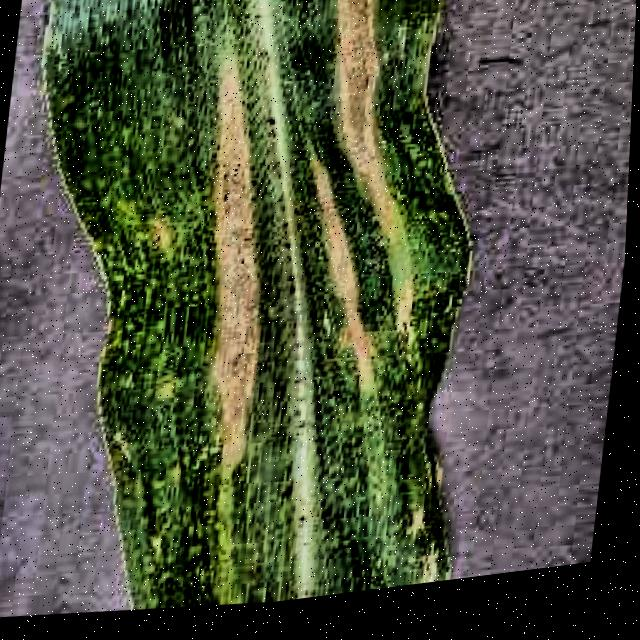blight: (28, 0, 496, 633)
